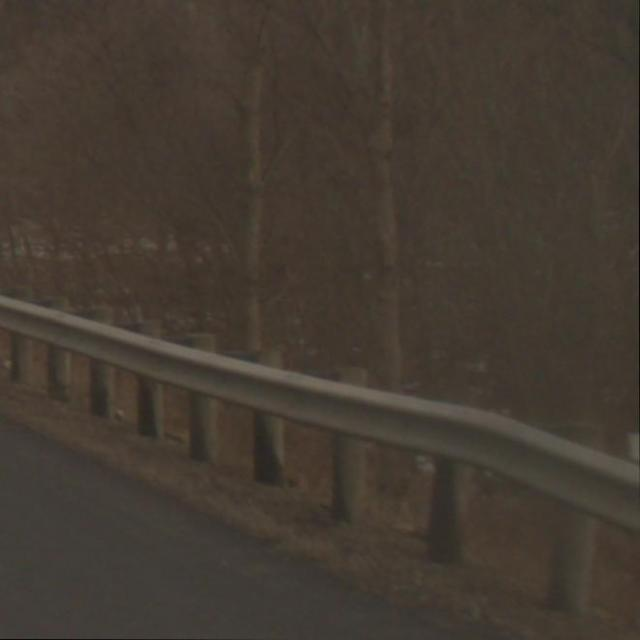Guard rail: (0, 282, 640, 633)
